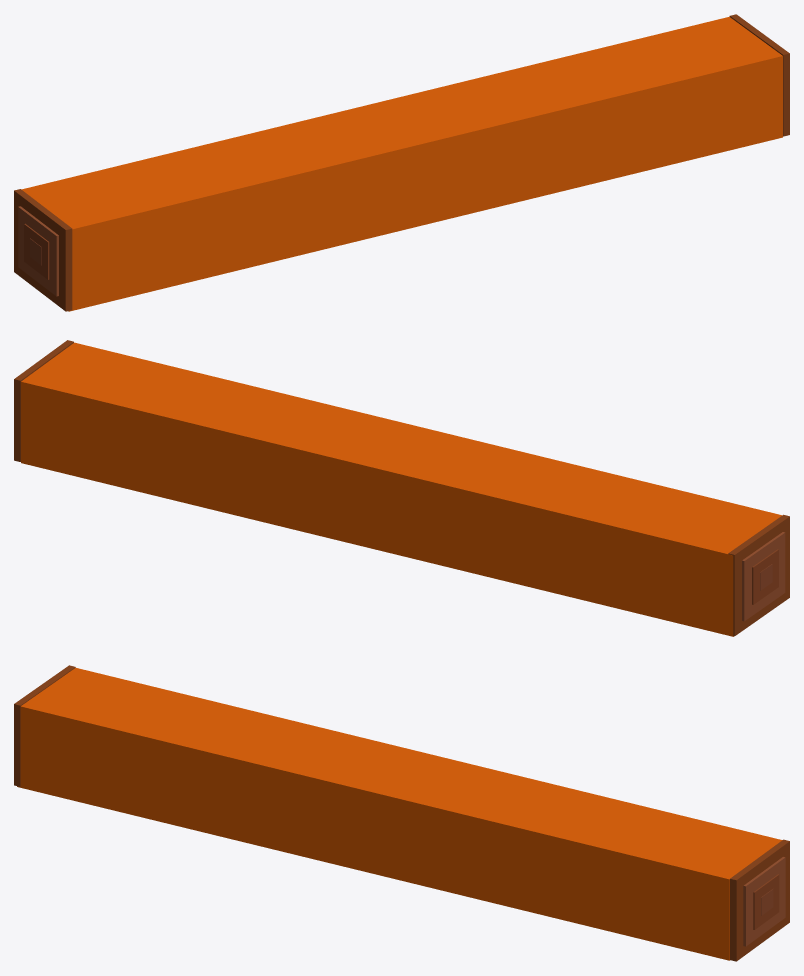
The model's file is Balok kayu.fbx.
3 views of the same model, one above another, from view 1: azimuth 30°, elevation 25°; view 2: azimuth 150°, elevation 25°; view 3: azimuth 330°, elevation 25° (orthographic).
Visible parts, largest first — view 1: Cube, Cube.005, Cube.006, Cube.001, Cube.007; view 2: Cube, Cube.005, Cube.006, Cube.001, Cube.007; view 3: Cube, Cube.001, Cube.002, Cube.005, Cube.003.
Boxes of the visible parts, left/top/right/bottom form: Cube: left=21, top=16, right=782, bottom=311; Cube.005: left=14, top=189, right=72, bottom=311; Cube.006: left=18, top=206, right=58, bottom=296; Cube.001: left=729, top=14, right=789, bottom=136; Cube.007: left=24, top=223, right=49, bottom=279; Cube: left=21, top=342, right=781, bottom=636; Cube.005: left=728, top=514, right=789, bottom=636; Cube.006: left=742, top=532, right=785, bottom=621; Cube.001: left=14, top=340, right=73, bottom=461; Cube.007: left=752, top=549, right=778, bottom=604; Cube: left=17, top=668, right=782, bottom=960; Cube.001: left=730, top=839, right=789, bottom=961; Cube.002: left=743, top=857, right=785, bottom=946; Cube.005: left=14, top=665, right=75, bottom=786; Cube.003: left=753, top=874, right=779, bottom=929.
Bounding box in the file's own units: 1577 × 170 × 200.
